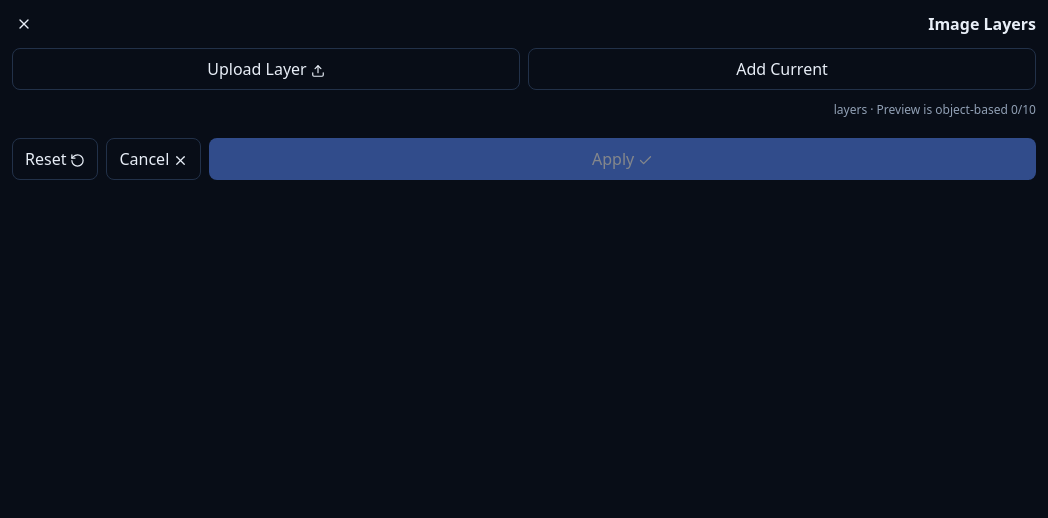
Test: LayersPanel › renders layer controls and adds the current asset as an object preview
Check: the button "Upload Layer" is shown, box [12,48,520,90]
What coordinates should you click on to do the following:
click the button "Add Current"
I would click on:
 (782, 69)
Its box is [528,48,1036,90].
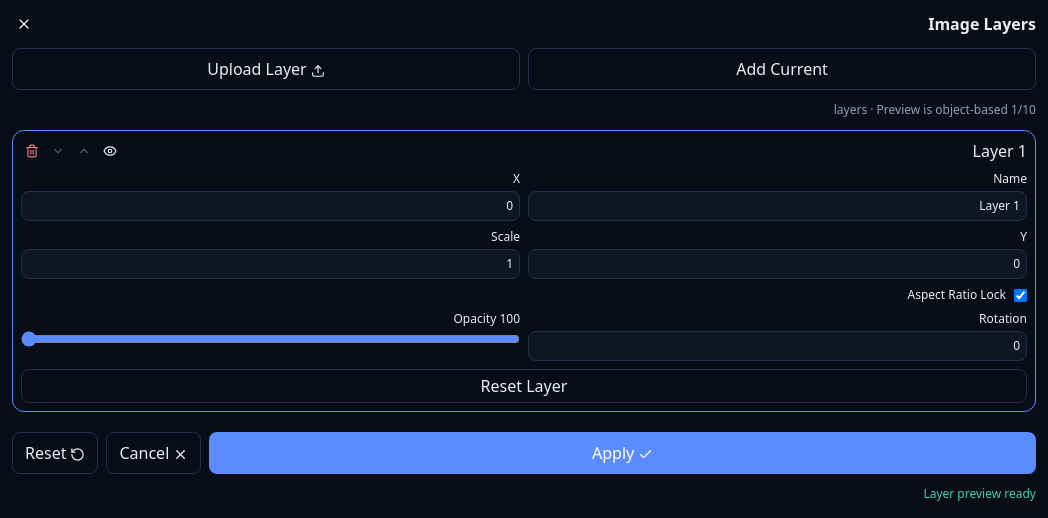
Check: the button "Layer 1" is shown, box [125,139,1027,163]
Check: the field named "Layer X" holds "0", box [21,191,520,221]
Check: the field named "Layer Y" holds "0", box [528,249,1027,279]
